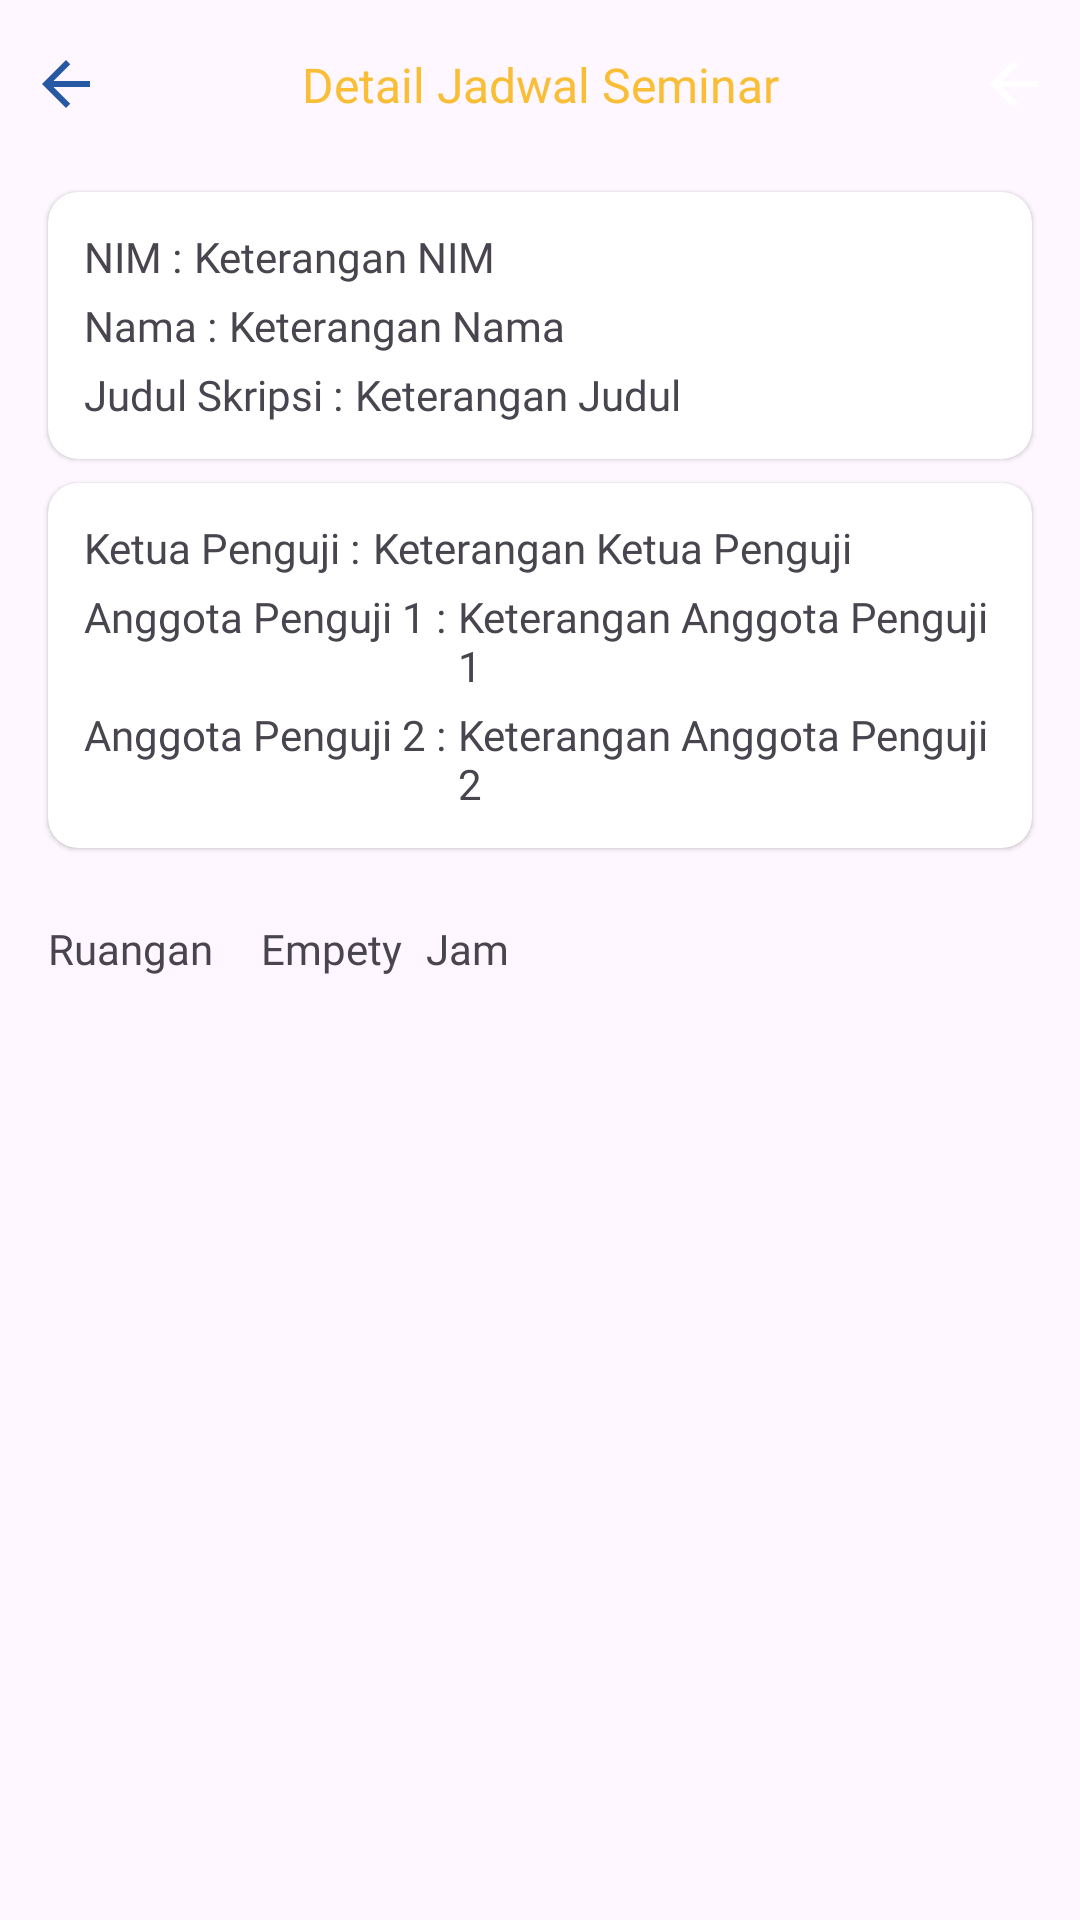

Icons on this 1080*1920 Android screen, each with the point to tap as [x,y]:
arrow back: [66,84]
